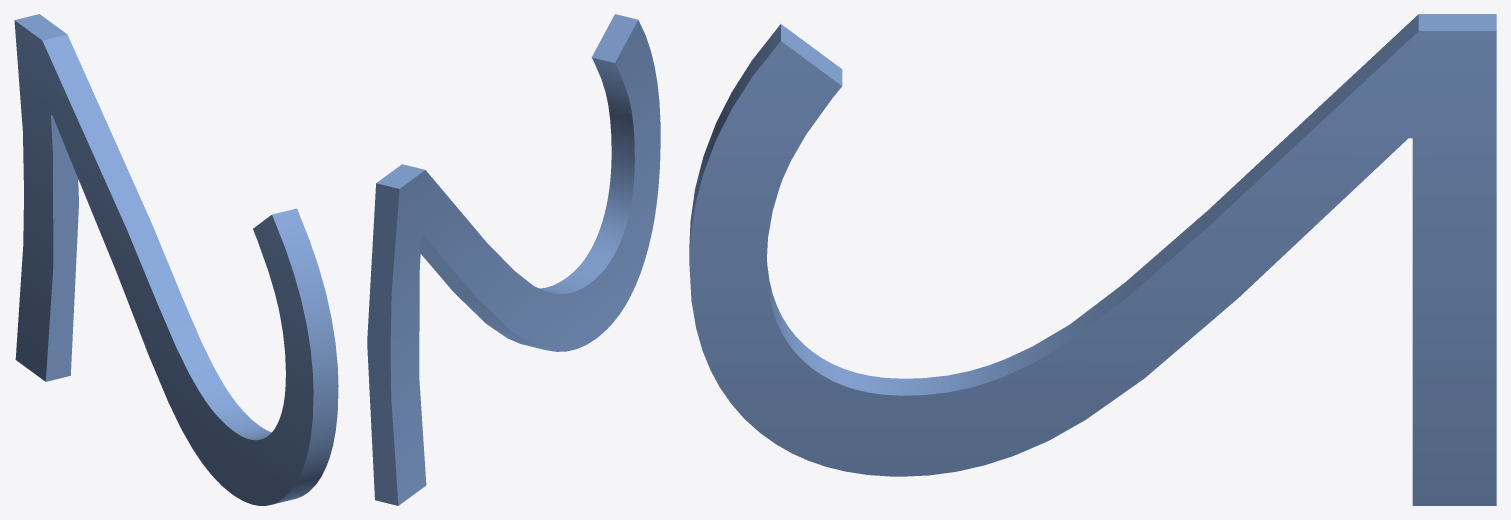
Rendered from Number_2.gltf.
The picture shows the model from 3 angles, left to right: view 1: azimuth 30°, elevation 25°; view 2: azimuth 150°, elevation 25°; view 3: azimuth 270°, elevation 25°; orthographic projection. The views are drawn at different scales.
Parts seen in each view (by area): view 1: Sub_4_Cell_1_2_Number_2; view 2: Sub_4_Cell_1_2_Number_2; view 3: Sub_4_Cell_1_2_Number_2.
Part boxes in pixels (<box>): Sub_4_Cell_1_2_Number_2: <box>14,14,338,505</box>; Sub_4_Cell_1_2_Number_2: <box>367,14,660,505</box>; Sub_4_Cell_1_2_Number_2: <box>689,14,1496,505</box>.
Size of the model in its own units: 0.00176 by 0.0166 by 0.0255.
